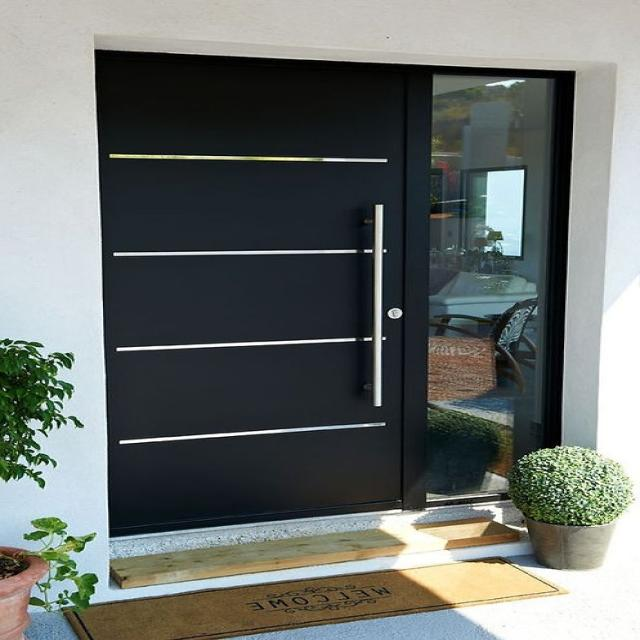door: (99, 51, 417, 538)
